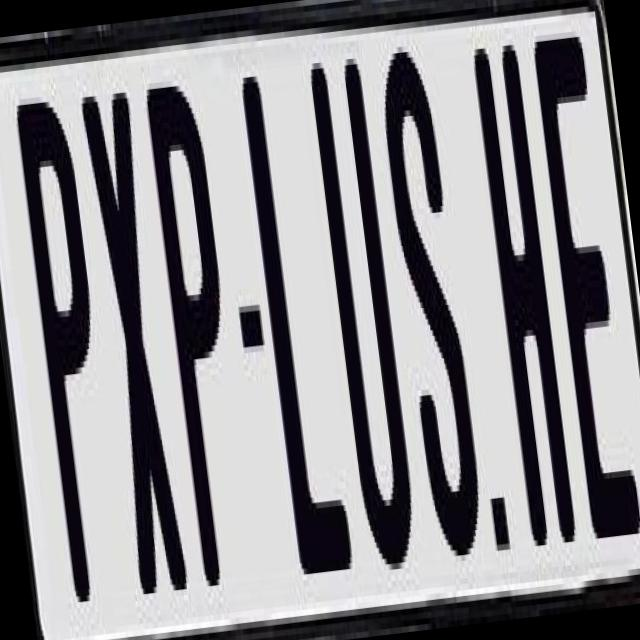E: (532, 34, 640, 573)
H: (468, 38, 581, 558)
L: (236, 66, 350, 575)
P: (144, 83, 260, 598), (12, 98, 130, 602)
S: (373, 31, 493, 575)
U: (304, 41, 416, 554)
X: (78, 80, 190, 600)
